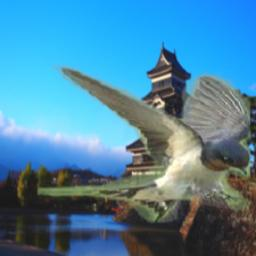Swallow: (39, 64, 251, 224)
